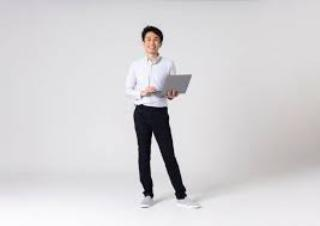person - v3 P: (98, 15, 230, 217)
